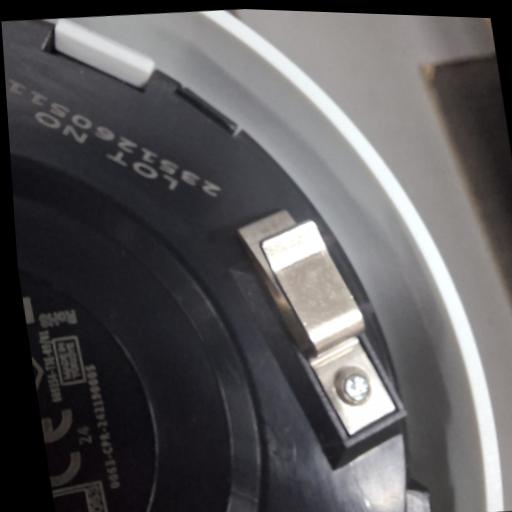yayli: (234, 202, 406, 454)
